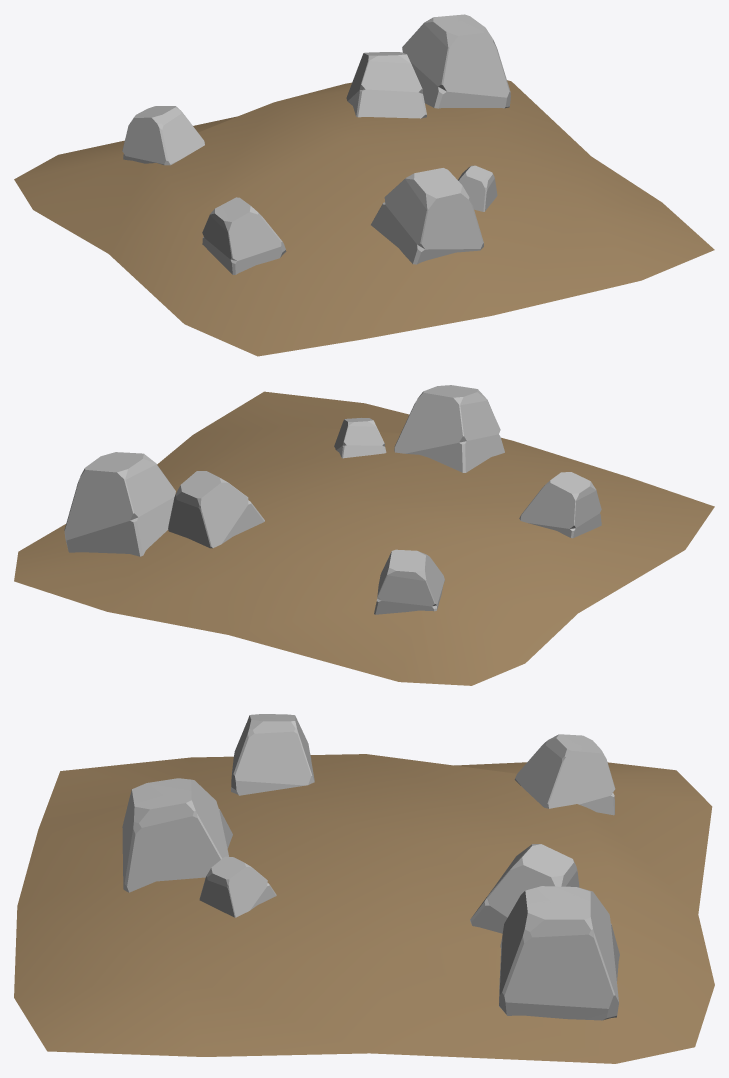
The model's file is Debris5.fbx.
3 views of the same model, one above another, from view 1: azimuth 30°, elevation 25°; view 2: azimuth 150°, elevation 25°; view 3: azimuth 270°, elevation 25° (orthographic). The views are drawn at different scales.
Visible parts, largest first — view 1: debris5; view 2: debris5; view 3: debris5.
Boxes of the visible parts, <box> form: debris5: <box>14,14,714,356</box>; debris5: <box>14,385,714,685</box>; debris5: <box>14,714,714,1063</box>.
Bounding box in the file's own units: 420 × 77.01 × 406.
